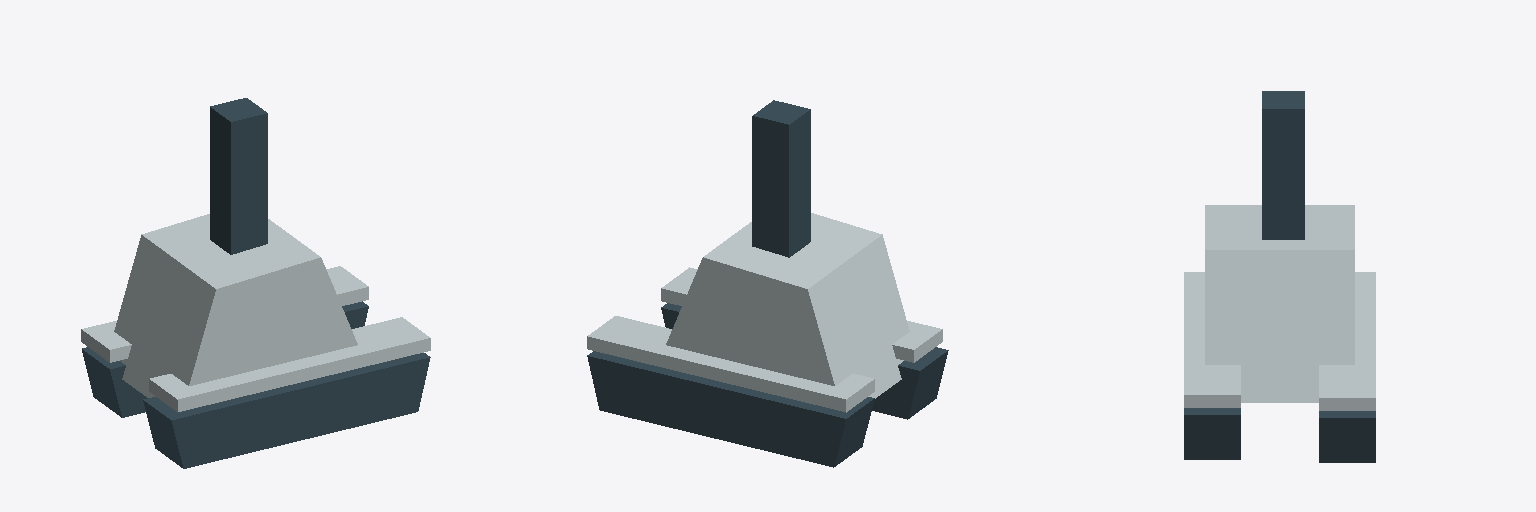
The model's file is RobotBody.obj.
The picture shows the model from 3 angles: view 1: azimuth 30°, elevation 25°; view 2: azimuth 150°, elevation 25°; view 3: azimuth 270°, elevation 25°; orthographic projection.
Visible parts, largest first — view 1: group[number redacted]; view 2: group[number redacted]; view 3: group[number redacted].
Boxes of the visible parts, <box> form: group[number redacted]: <box>81,98,430,468</box>; group[number redacted]: <box>587,100,948,467</box>; group[number redacted]: <box>1184,91,1375,462</box>.
Bounding box in the file's own units: 0.43 × 0.46 × 0.27.